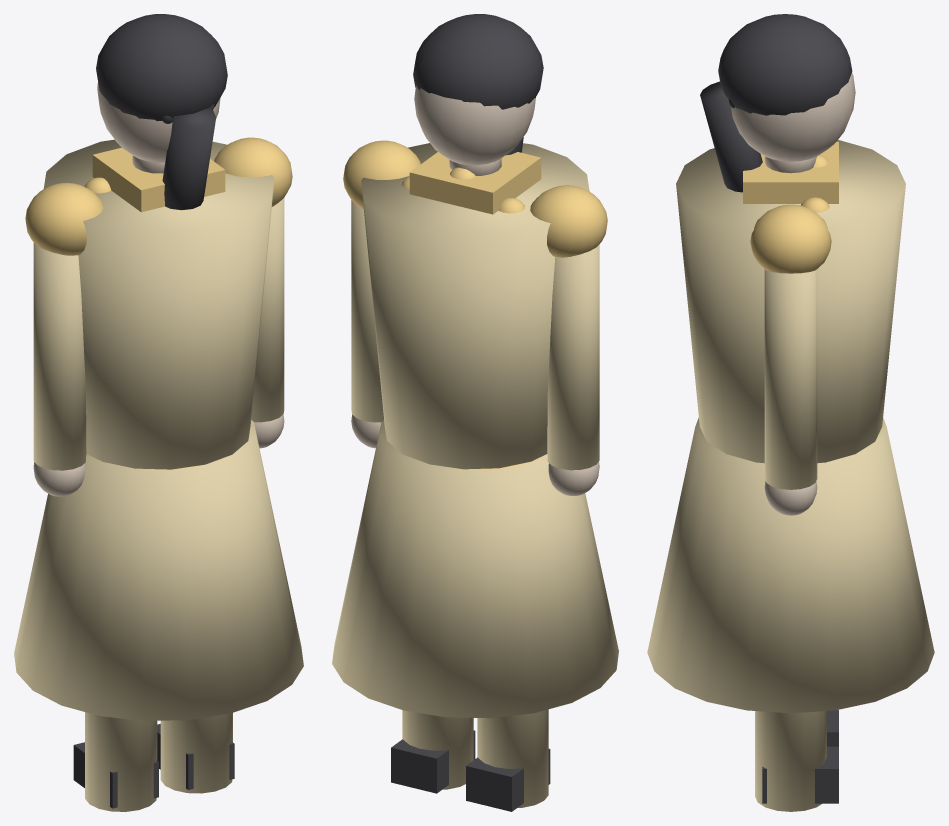
3 views of the same model, side by side, from view 1: azimuth 30°, elevation 25°; view 2: azimuth 150°, elevation 25°; view 3: azimuth 270°, elevation 25° (orthographic).
Parts seen in each view (by area): view 1: a-fu_robe, a-fu_torso, a-fu_arm-0.235, a-fu_hair, a-fu_leg-0.09, a-fu_arm0.235, a-fu_leg0.09, a-fu_shoulder-0.22, a-fu_pigtail, a-fu_collar, a-fu_shoulder0.22, a-fu_head (+4 smaller); view 2: a-fu_robe, a-fu_torso, a-fu_arm-0.235, a-fu_hair, a-fu_head, a-fu_arm0.235, a-fu_collar, a-fu_leg-0.09, a-fu_shoulder-0.22, a-fu_leg0.09, a-fu_shoulder0.22, a-fu_boot-0.09 (+3 smaller); view 3: a-fu_robe, a-fu_torso, a-fu_arm0.235, a-fu_hair, a-fu_leg0.09, a-fu_head, a-fu_shoulder0.22, a-fu_collar, a-fu_pigtail, a-fu_boot0.09, a-fu_hand0.235, a-fu_neck.
Part boxes in pixels (x1,y1,x2,y2): a-fu_robe: [14, 420, 303, 720]; a-fu_torso: [43, 139, 274, 469]; a-fu_arm-0.235: [33, 242, 86, 470]; a-fu_hair: [96, 14, 227, 121]; a-fu_leg-0.09: [85, 712, 157, 811]; a-fu_arm0.235: [251, 198, 284, 422]; a-fu_leg0.09: [160, 713, 232, 793]; a-fu_shoulder-0.22: [25, 183, 103, 255]; a-fu_pigtail: [162, 107, 215, 210]; a-fu_collar: [92, 147, 225, 212]; a-fu_shoulder0.22: [214, 137, 292, 206]; a-fu_head: [97, 82, 220, 162]; a-fu_robe: [332, 420, 618, 718]; a-fu_torso: [361, 143, 589, 469]; a-fu_arm-0.235: [547, 244, 599, 470]; a-fu_hair: [413, 14, 543, 109]; a-fu_head: [414, 86, 535, 165]; a-fu_arm0.235: [351, 200, 383, 422]; a-fu_collar: [409, 152, 541, 214]; a-fu_leg-0.09: [477, 709, 548, 807]; a-fu_shoulder-0.22: [530, 185, 607, 257]; a-fu_leg0.09: [402, 710, 473, 789]; a-fu_shoulder0.22: [343, 140, 420, 209]; a-fu_boot-0.09: [466, 748, 550, 811]; a-fu_robe: [647, 417, 934, 713]; a-fu_torso: [676, 140, 905, 463]; a-fu_arm0.235: [764, 269, 817, 489]; a-fu_hair: [718, 14, 852, 115]; a-fu_leg0.09: [755, 711, 826, 811]; a-fu_head: [731, 73, 855, 161]; a-fu_shoulder0.22: [750, 204, 831, 273]; a-fu_collar: [743, 142, 838, 203]; a-fu_pigtail: [700, 81, 762, 192]; a-fu_boot0.09: [762, 746, 838, 803]; a-fu_hand0.235: [764, 481, 817, 515]; a-fu_neck: [764, 156, 816, 173].
Bounding box in the file's own units: 0.61 × 1.74 × 0.6.
